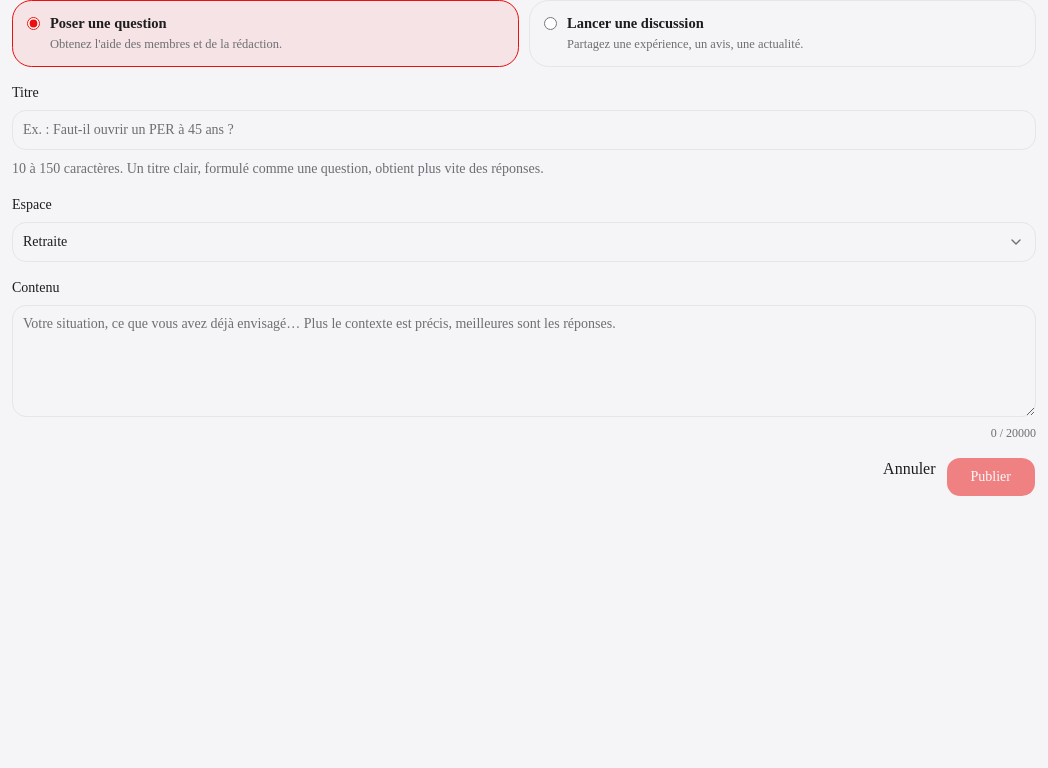
Test: DiscussionForm › preselects the space and shows each rule on blur
Expected: the dropdown labelled "Espace" shows "Retraite", [12,222,1036,262]
Type "PEA ou CT" into the field labelled "Titre".
click(524, 130); type("PEA ou CT")  # box [12,110,1036,150]
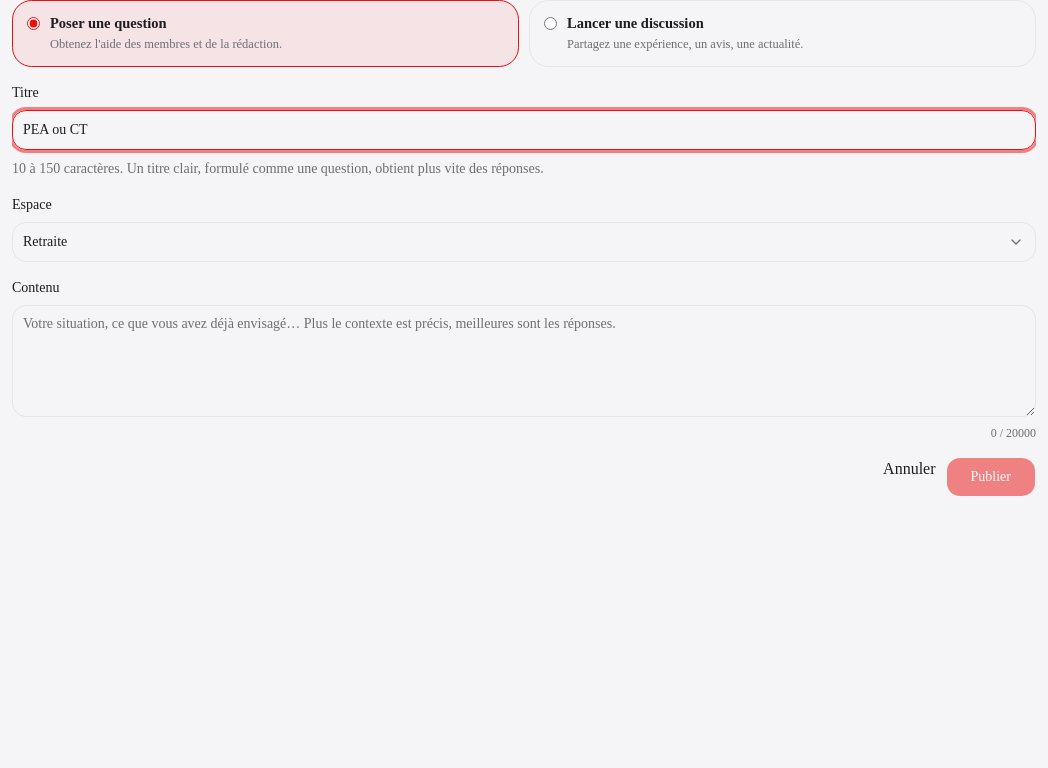
Press Tab
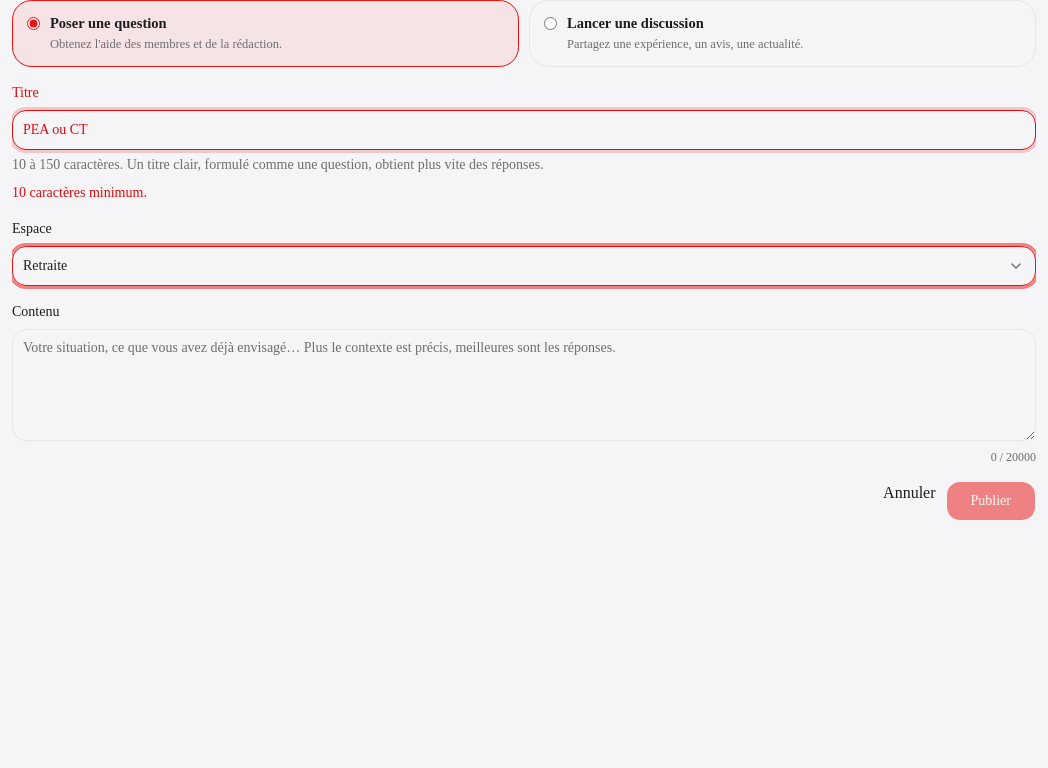
Expected: the text "10 caractères minimum." is shown, [12,185,147,200]
Click the text box labelled "Contenu".
click(524, 385)  # box [12,329,1036,441]
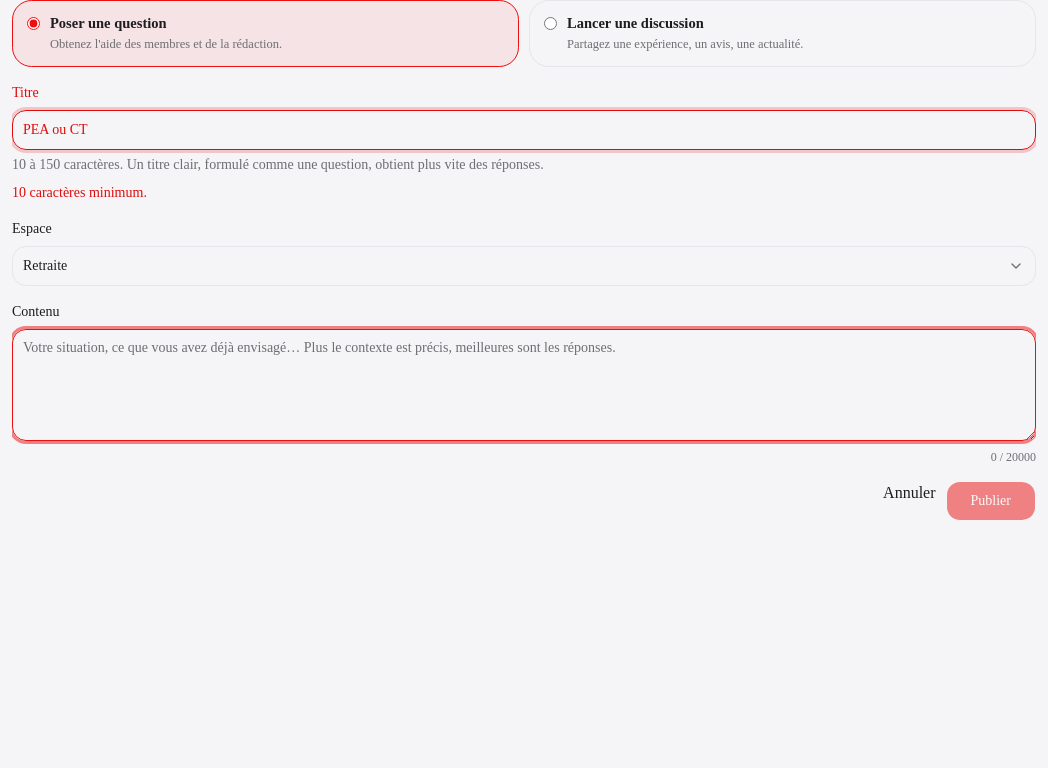
Press Tab
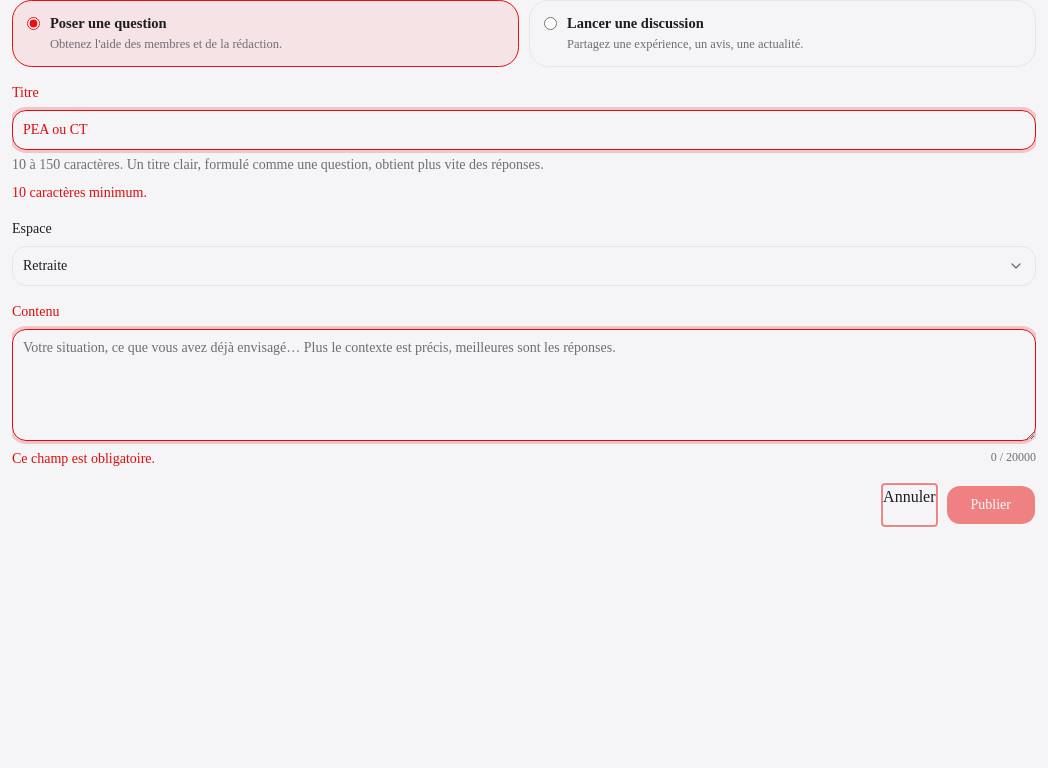
Expected: the text "Ce champ est obligatoire." is shown, [12,449,155,469]
